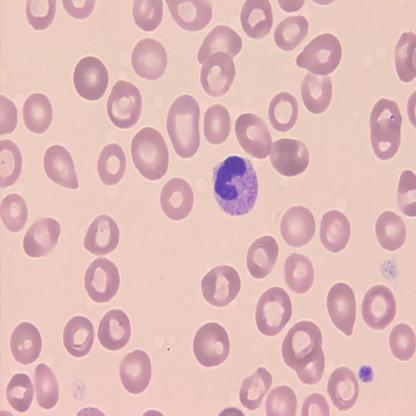Band Neutrophil: (210, 152, 261, 218)
